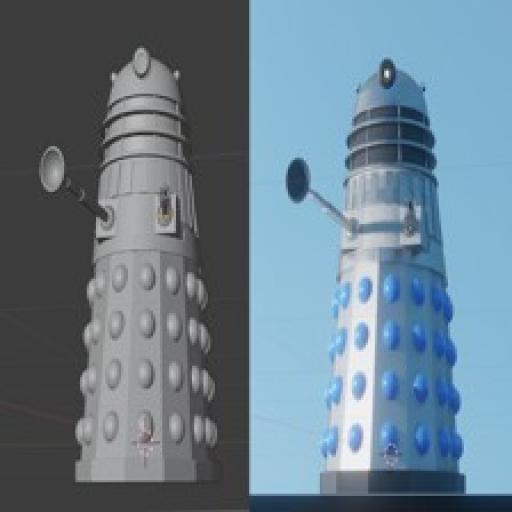dalek: (33, 45, 228, 489), (276, 55, 468, 495)
